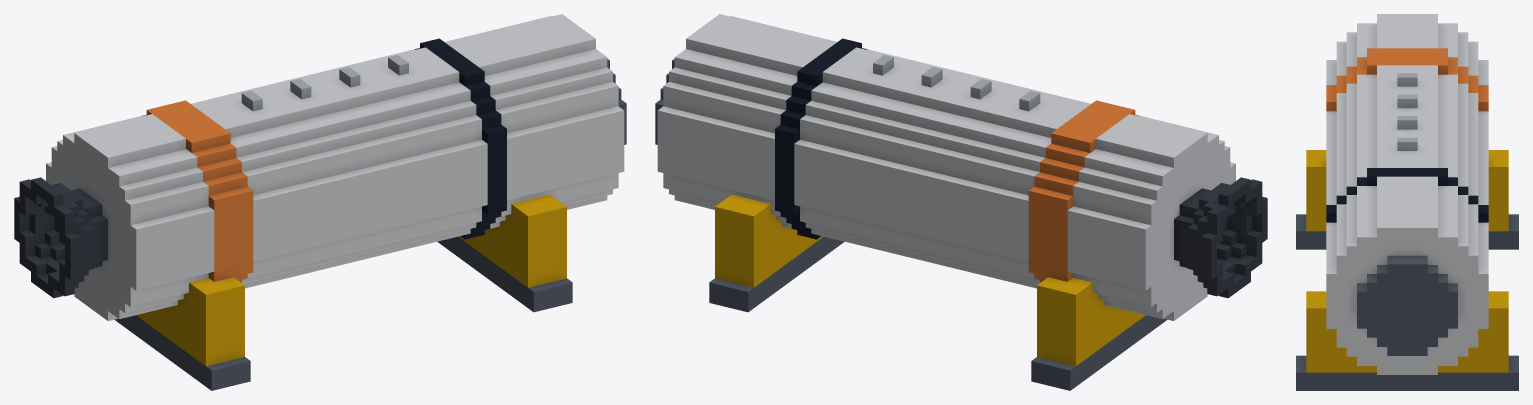
File: rocket_h.glb
3 views of the same model, side by side, from view 1: azimuth 30°, elevation 25°; view 2: azimuth 150°, elevation 25°; view 3: azimuth 270°, elevation 25° (orthographic). The views are drawn at different scales.
Visible parts, largest first — view 1: Base; view 2: Base; view 3: Base.
Part boxes in pixels (x1,y1,x2,y2): Base: (14, 14, 626, 390); Base: (655, 14, 1267, 390); Base: (1296, 14, 1518, 390).
Size of the model in its own units: 5.7 by 2.2 by 2.2.
